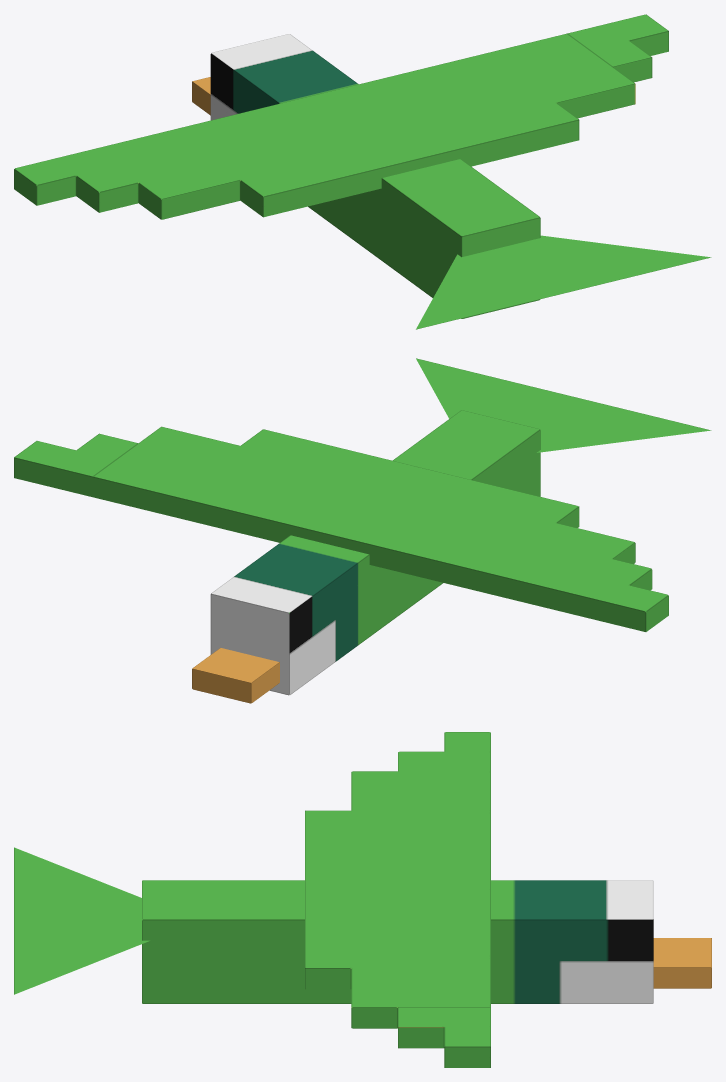
File: Birb.fbx
The picture shows the model from 3 angles, top to bottom: view 1: azimuth 30°, elevation 25°; view 2: azimuth 150°, elevation 25°; view 3: azimuth 270°, elevation 25°; orthographic projection. The views are drawn at different scales.
Parts seen in each view (by area): view 1: cuboid_1, cuboid, pyramid, cuboid_2; view 2: cuboid_1, cuboid, pyramid, cuboid_2; view 3: cuboid_1, cuboid, pyramid, cuboid_2.
Part boxes in pixels (bbox=[...]): cuboid_1: bbox=[14, 14, 668, 219]; cuboid: bbox=[210, 34, 540, 318]; pyramid: bbox=[416, 235, 711, 329]; cuboid_2: bbox=[192, 77, 210, 115]; cuboid_1: bbox=[14, 426, 668, 631]; cuboid: bbox=[210, 410, 540, 695]; pyramid: bbox=[416, 358, 711, 452]; cuboid_2: bbox=[192, 647, 279, 703]; cuboid_1: bbox=[305, 732, 490, 1067]; cuboid: bbox=[142, 880, 653, 1003]; pyramid: bbox=[14, 847, 149, 994]; cuboid_2: bbox=[653, 938, 711, 988].
Bounding box in the file's own units: 100 × 14.06 × 93.75.
1 material, 1 textured.
